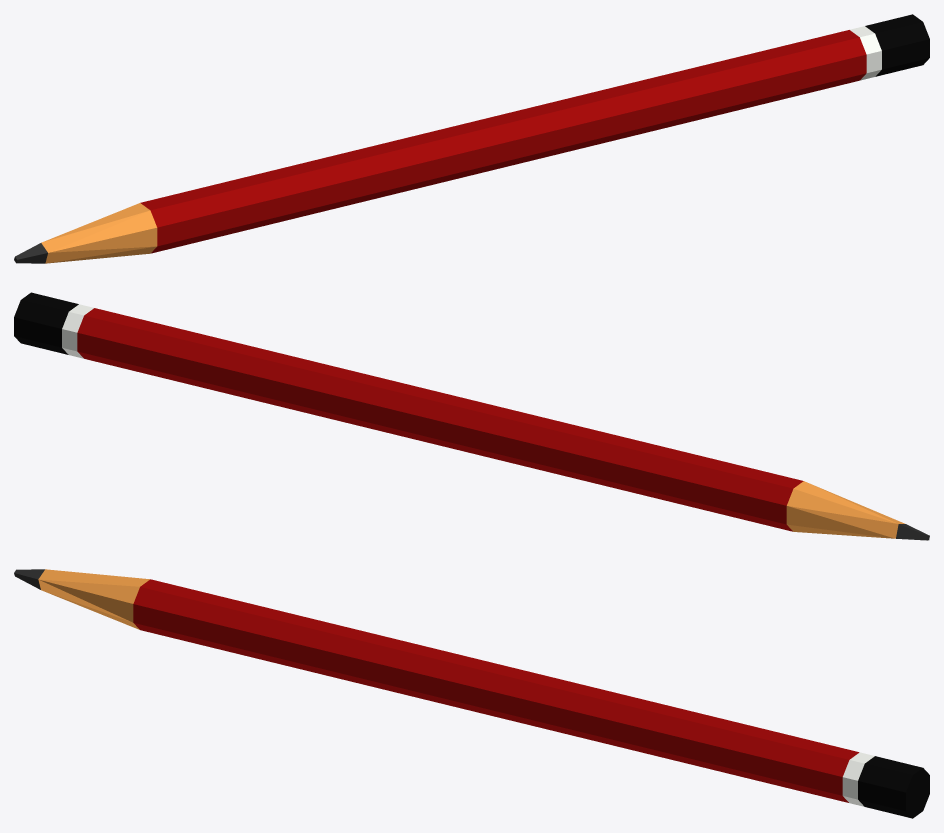
Rendered from KALEM2.fbx.
3 views of the same model, one above another, from view 1: azimuth 30°, elevation 25°; view 2: azimuth 150°, elevation 25°; view 3: azimuth 330°, elevation 25° (orthographic).
Visible parts, largest first — view 1: Cube.003; view 2: Cube.003; view 3: Cube.003.
Part boxes in pixels (<box>): Cube.003: <box>14,14,929,263</box>; Cube.003: <box>14,292,929,540</box>; Cube.003: <box>14,569,929,818</box>.
Size of the model in its own units: 272 by 12.49 by 12.49.
